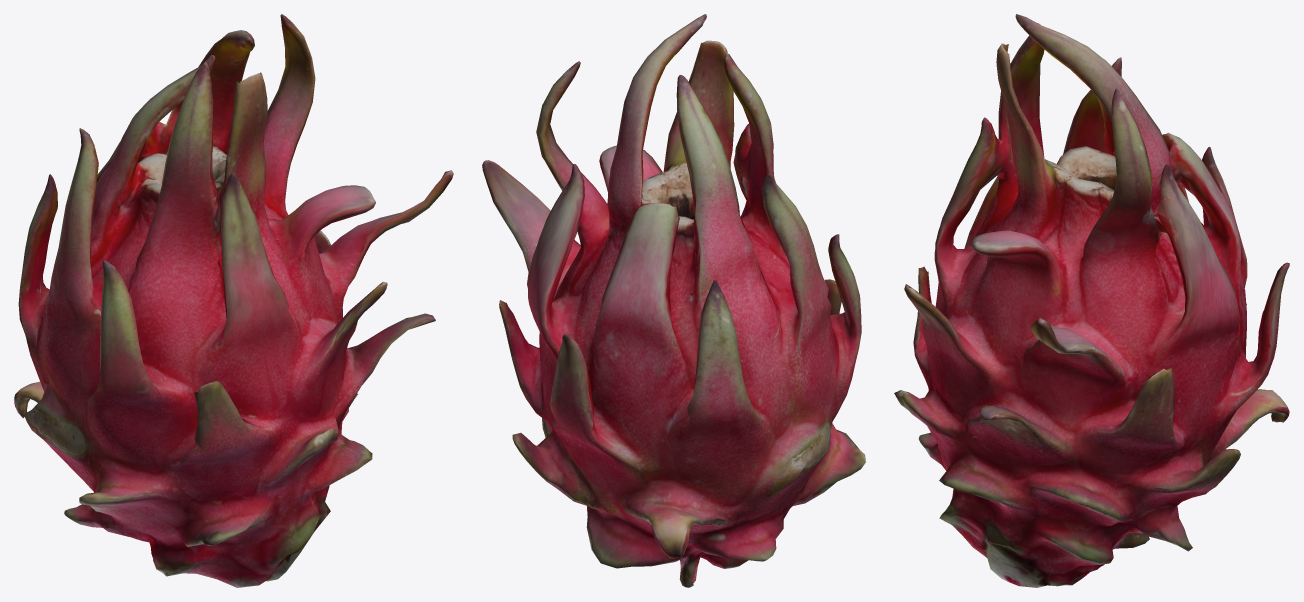
The model's file is kiri_fruit_dragon.gltf.
3 views of the same model, side by side, from view 1: azimuth 30°, elevation 25°; view 2: azimuth 150°, elevation 25°; view 3: azimuth 270°, elevation 25° (orthographic). The views are drawn at different scales.
Visible parts, largest first — view 1: A107_Dragon_Fruit; view 2: A107_Dragon_Fruit; view 3: A107_Dragon_Fruit.
Part boxes in pixels (x1=…): A107_Dragon_Fruit: x1=14, y1=14, x2=453, y2=587; A107_Dragon_Fruit: x1=482, y1=14, x2=865, y2=587; A107_Dragon_Fruit: x1=894, y1=14, x2=1289, y2=587.
Bounding box in the file's own units: 0.0791 × 0.1074 × 0.069.
1 material, 1 textured.
